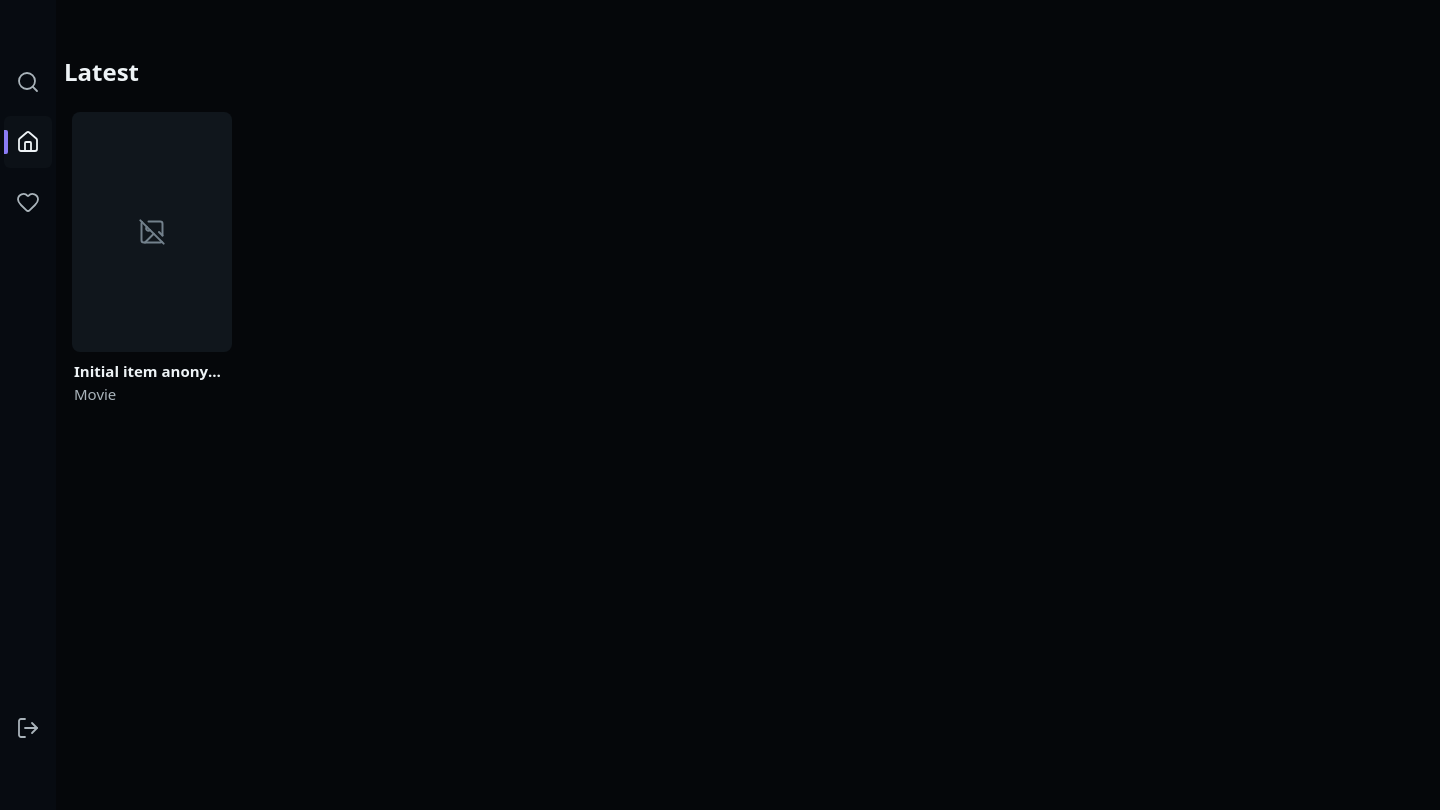
Test case: App Home orchestration › keeps Home controls focusable while a newer Home action supersedes stale work
Step 1. Click the button named "Home" → (28, 142), box left=4, top=116, right=52, bottom=168
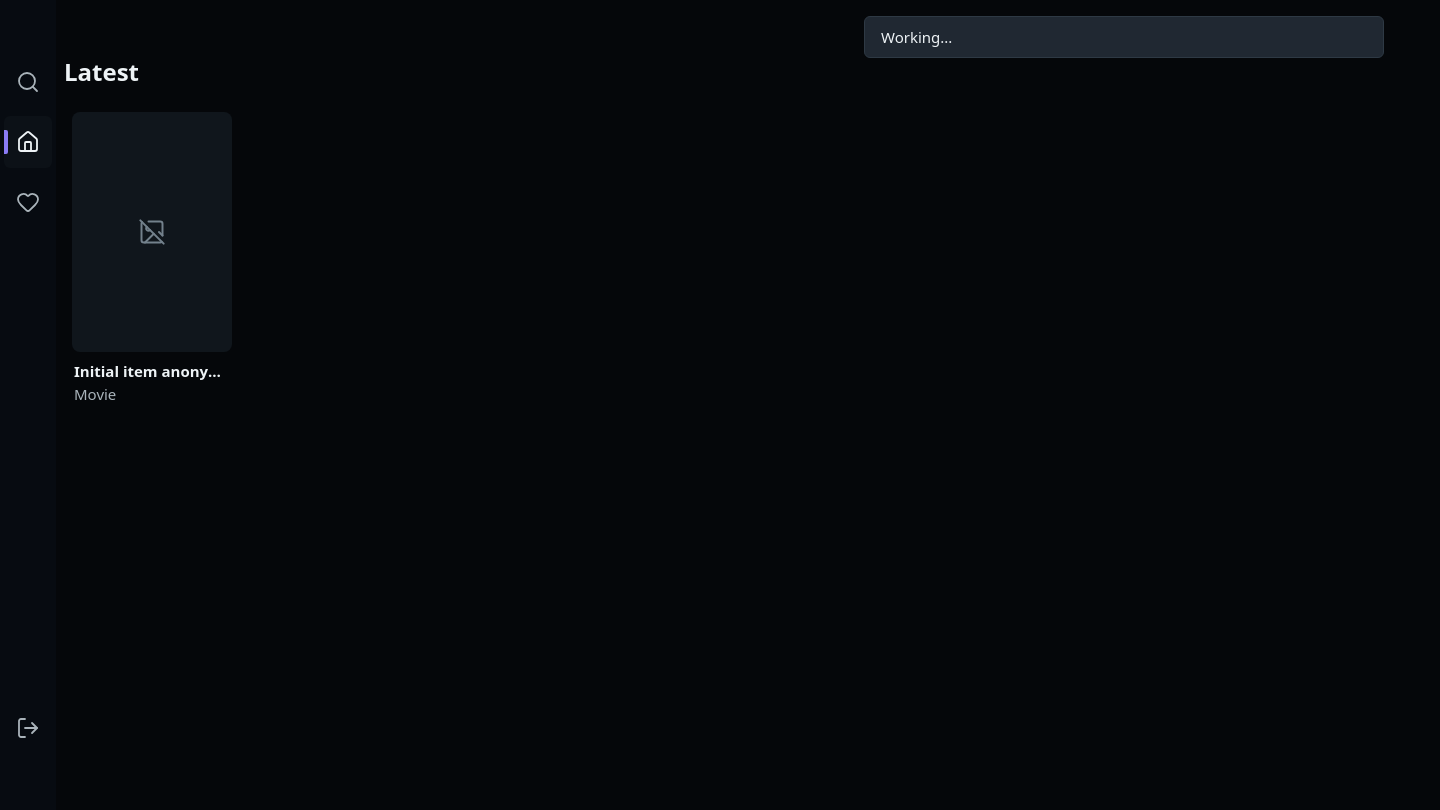
Expected: the button with aria-label "Open Initial item anonymous" is enabled, left=64, top=104, right=240, bottom=412
Result: the element showing "Latest Initial item anonymous Movie" has attribute aria-busy="true"
Step 2. Click the button named "Home" → (28, 142), box left=4, top=116, right=52, bottom=168
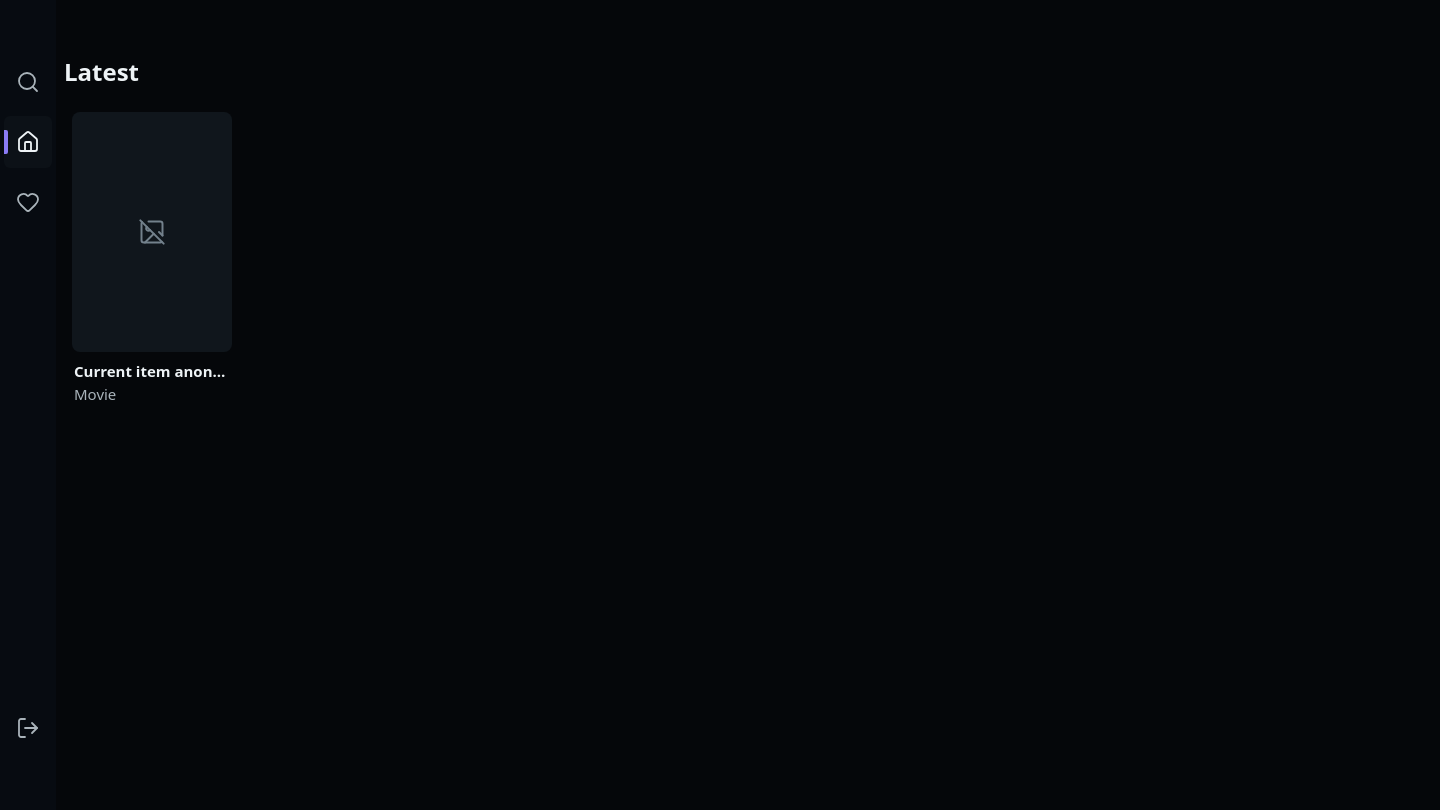
Result: the text "Current item anonymous" is shown at left=74, top=360, right=230, bottom=382
